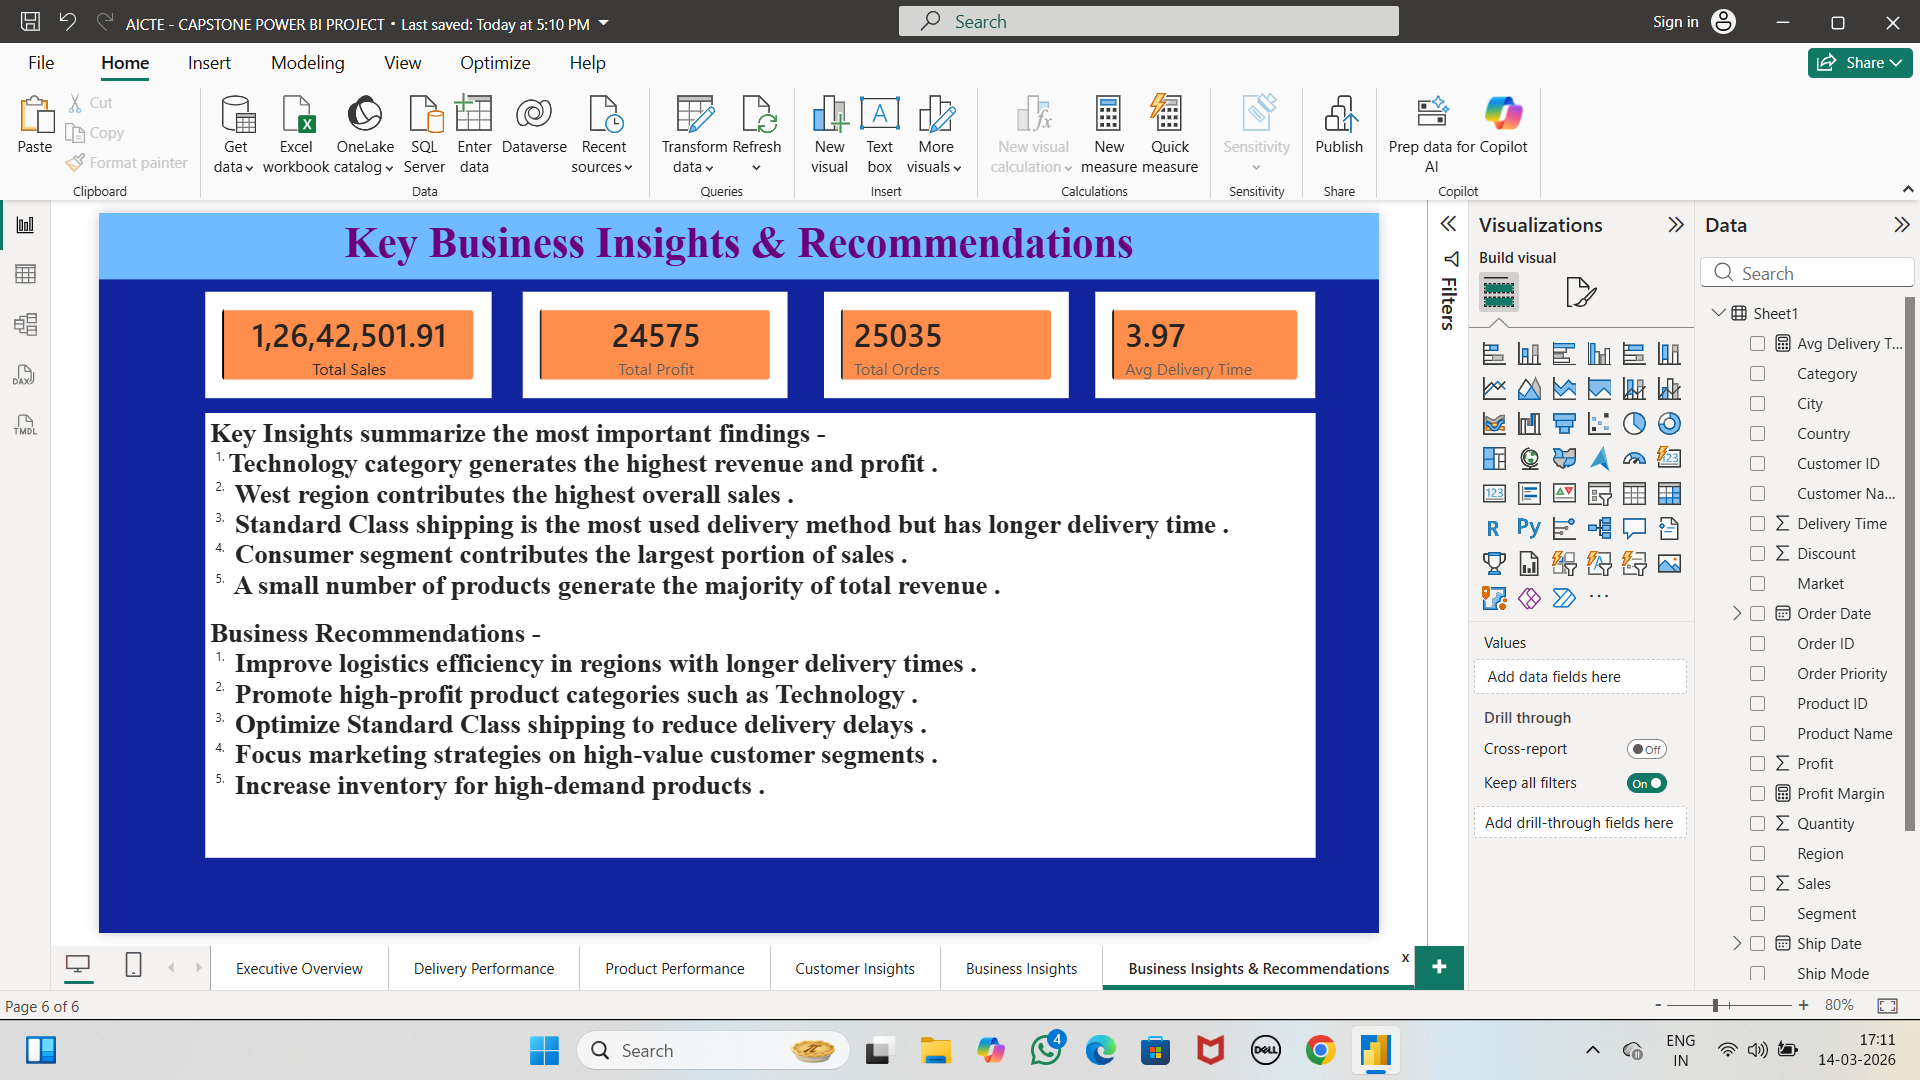

This screenshot's page, from the dashboard's own definition file:
{"tool":"powerbi","page":{"name":"Business Insights & Recommendations","canvas":[1280,720],"ordinal":5},"visuals":[{"type":"textbox","box":[106.7,200,1110,445],"z":0},{"type":"textbox","box":[0,0,1280,66.7],"z":1000},{"type":"cardVisual","fields":{"Data":["Sheet1.Total Sales"]},"box":[106.7,78.3,286.7,106.7],"z":2000},{"type":"cardVisual","fields":{"Data":["Sheet1.Total Profit"]},"box":[423.3,78.3,265,106.7],"z":3000},{"type":"cardVisual","fields":{"Data":["Sheet1.Total Orders"]},"box":[725,78.3,245,106.7],"z":4000},{"type":"cardVisual","fields":{"Data":["Sheet1.Avg Delivery Time"]},"box":[996.7,78.3,220,106.7],"z":5000}]}

Visuals, with their boxes on the page's 1280x720 design canvas (x1, y1, x2, y2). These are canvas units, not pixel positions in the 1920x1080 screenshot, which may show the page scaled, cropped or inside an application window:
textbox: bbox=[107, 200, 1217, 645]
textbox: bbox=[0, 0, 1280, 67]
cardVisual - Sheet1.Total Sales: bbox=[107, 78, 393, 185]
cardVisual - Sheet1.Total Profit: bbox=[423, 78, 688, 185]
cardVisual - Sheet1.Total Orders: bbox=[725, 78, 970, 185]
cardVisual - Sheet1.Avg Delivery Time: bbox=[997, 78, 1217, 185]
